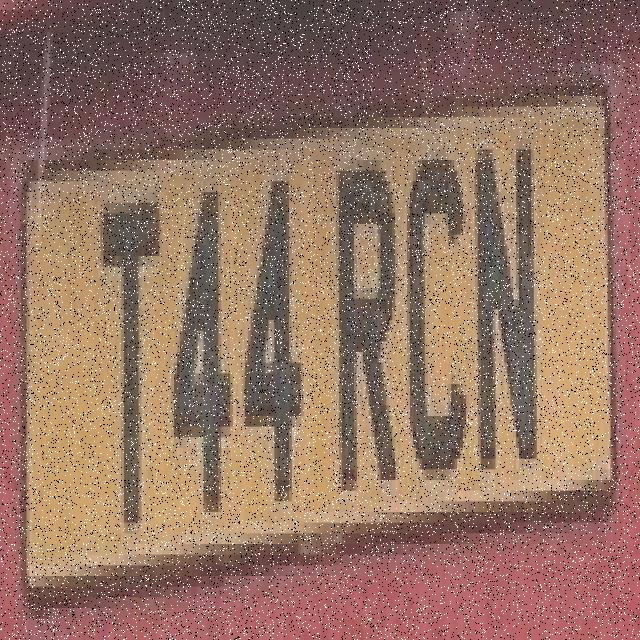licenseplate: (10, 50, 622, 616)
